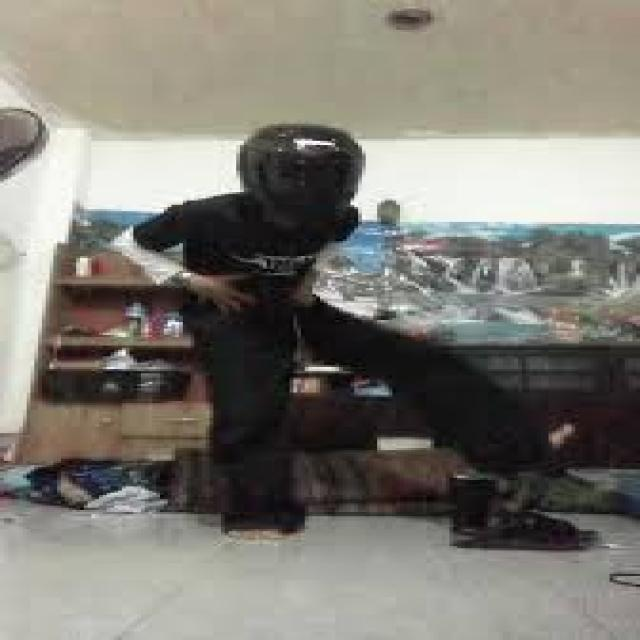helmet: (229, 122, 379, 224)
